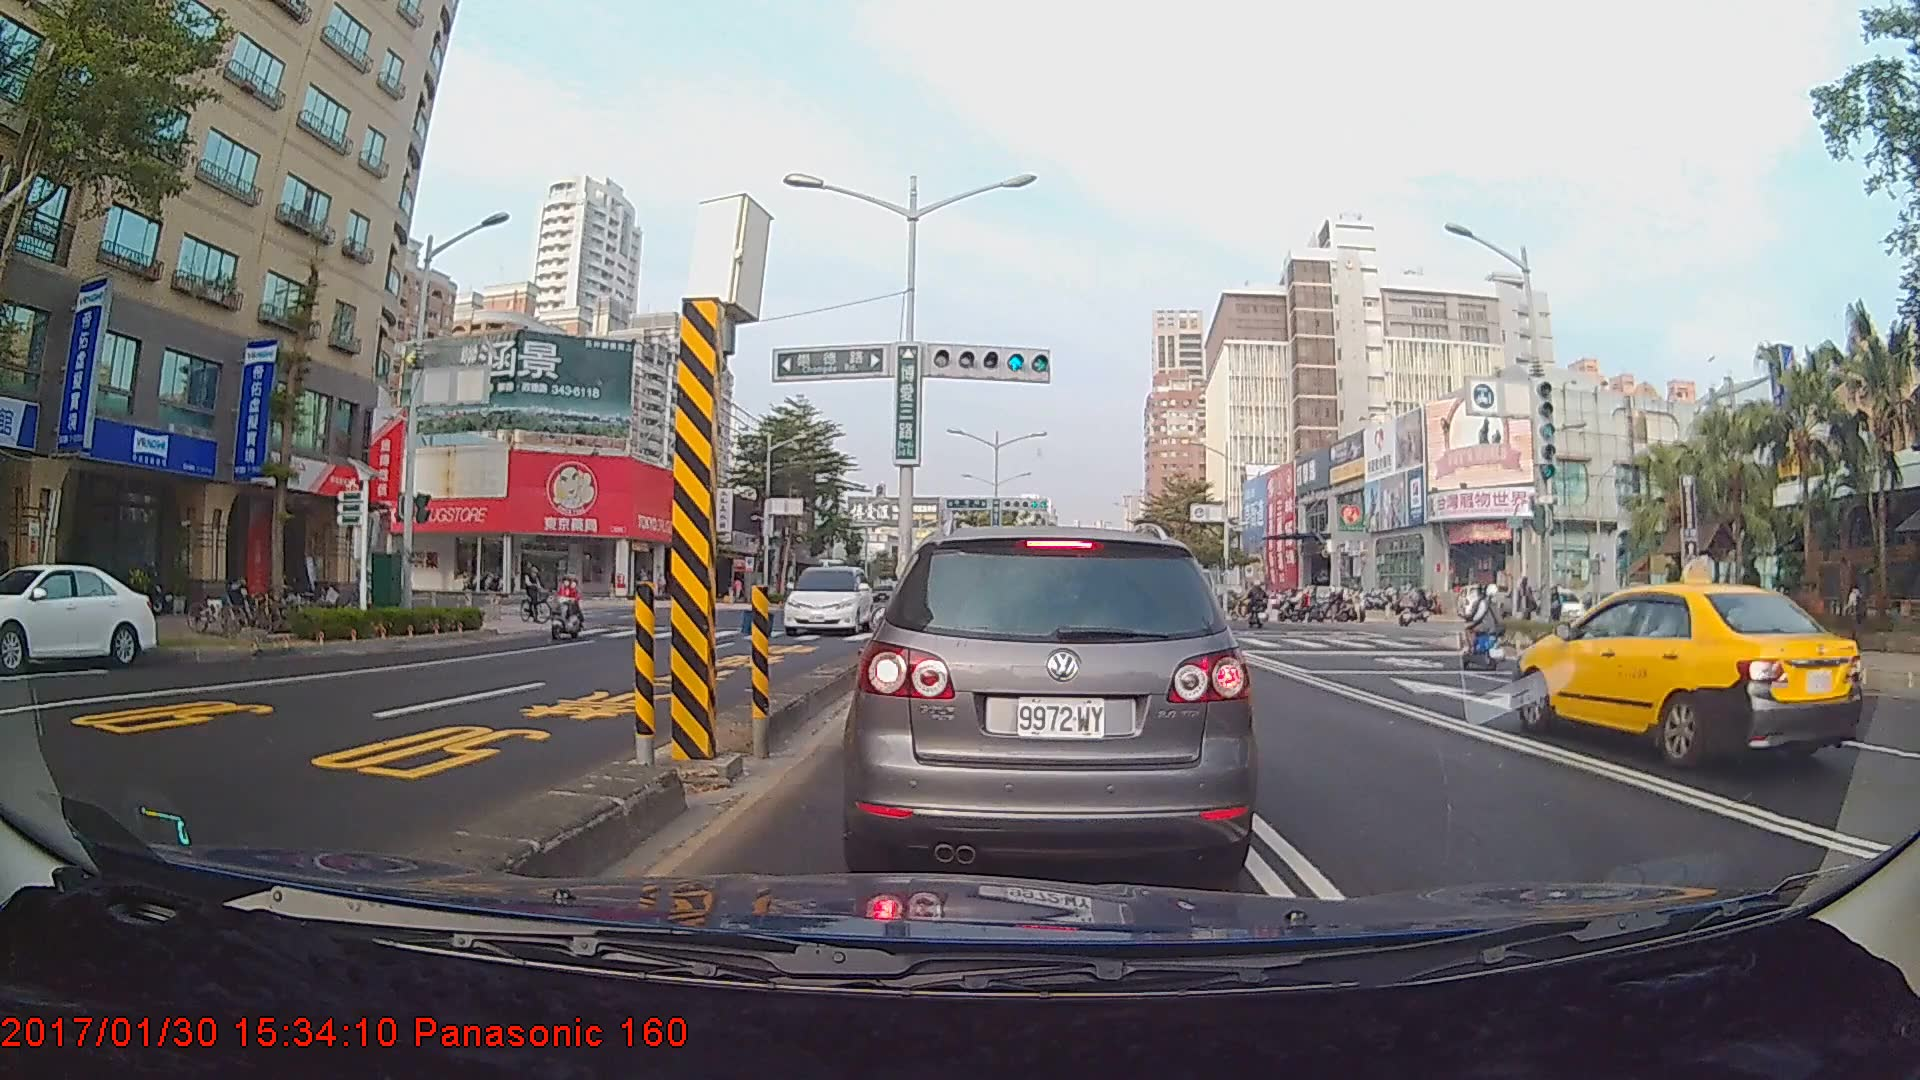pedestrian: (1841, 579, 1869, 652)
rider: (1454, 579, 1513, 676), (552, 573, 597, 644), (518, 559, 561, 629), (1244, 580, 1275, 631)
vehicle: (853, 520, 1252, 883), (1511, 575, 1864, 771), (0, 561, 159, 671), (782, 563, 875, 636)
